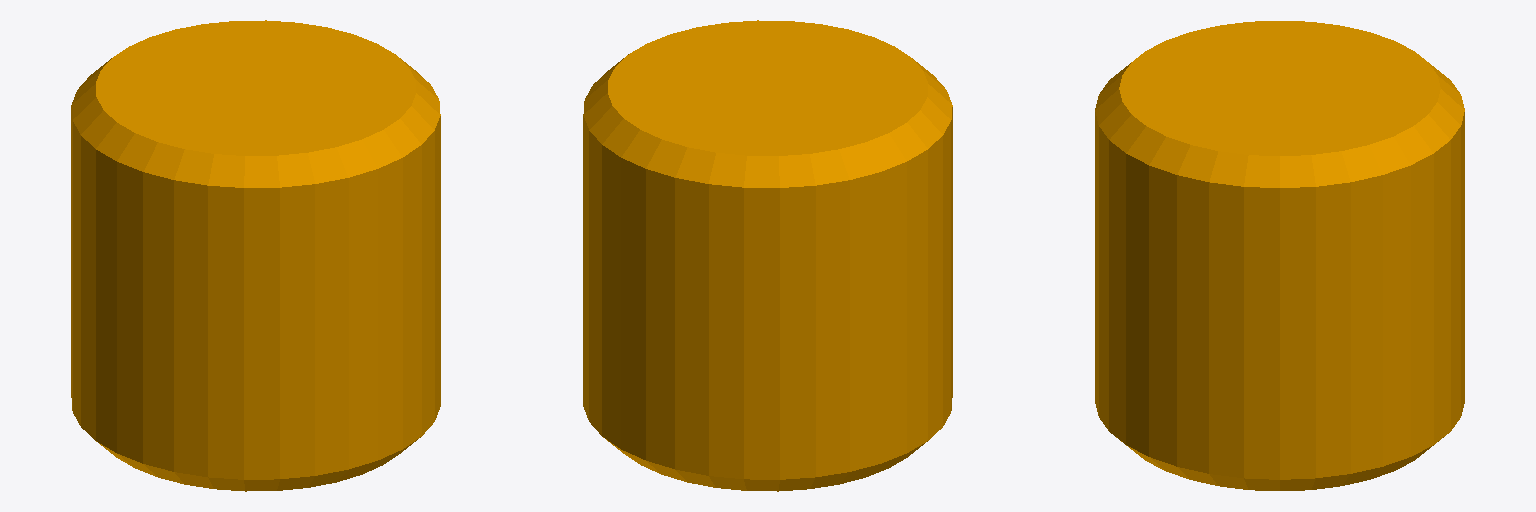
robot.urdf — object:
<?xml version="1.0"?>
<robot name="object">
  <link name="object">
    <visual>
      <origin xyz="0 0 0"/>
      <geometry>
        <mesh filename="meshes/set2/set_obj12_cylinder_corner.obj" scale=".03 .03 .03"/>
      </geometry>
    </visual>
    <collision>
  <origin xyz="0 0 0"/>
  <geometry>
    <mesh filename="meshes/set2/set_obj12_cylinder_corner_0decompose.obj" scale=".03 .03 .03"/>
<!--          <mesh filename="meshes/custom/obj0_ball.obj" scale=".05 .05 .05"/>-->
  </geometry>
</collision>

<!--    <collision>-->
<!--      <origin xyz="0 0 0"/>-->
<!--      <geometry>-->
<!--        <mesh filename="meshes/set2/set_obj12_cylinder_corner.obj" scale=".03 .03 .03"/>-->
<!--&lt;!&ndash;          <mesh filename="meshes/custom/obj0_ball.obj" scale=".05 .05 .05"/>&ndash;&gt;-->
<!--      </geometry>-->
<!--    </collision>-->
    <inertial>
      <density value="1000.0"/>
    </inertial>
  </link>
</robot>

--- What the picture shows (computed from the rendered views, not written in the file) ---
3 views of the same robot in one strip: view 1: azimuth 30°, elevation 25°; view 2: azimuth 150°, elevation 25°; view 3: azimuth 270°, elevation 25° (orthographic).
Model object with 1 links and 0 joints (none), rooted at object, posed all joints at 0.
Visible links, largest first — view 1: object; view 2: object; view 3: object.
Boxes of the visible links, bbox=[...] form: object: bbox=[71, 20, 440, 491]; object: bbox=[583, 20, 952, 491]; object: bbox=[1095, 21, 1464, 490].
Bounding box of the posed robot: 0.06 × 0.06 × 0.06 m (x, y, z).
Meshes: 1 distinct files referenced, 1 mesh visuals loaded (1 OBJ).